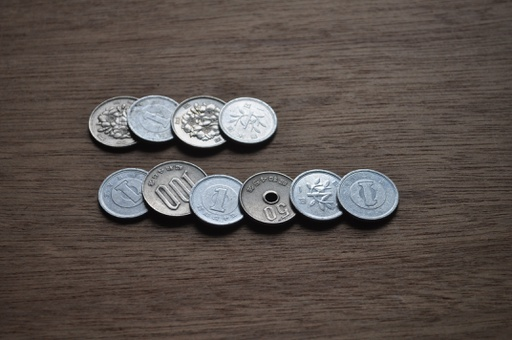100yen: (141, 160, 210, 217), (170, 95, 234, 148), (88, 96, 151, 147)
1yen: (336, 168, 398, 221), (188, 174, 248, 226), (289, 169, 349, 221), (97, 168, 158, 219), (218, 97, 277, 145), (127, 95, 185, 143)
50yen: (239, 171, 298, 224)
